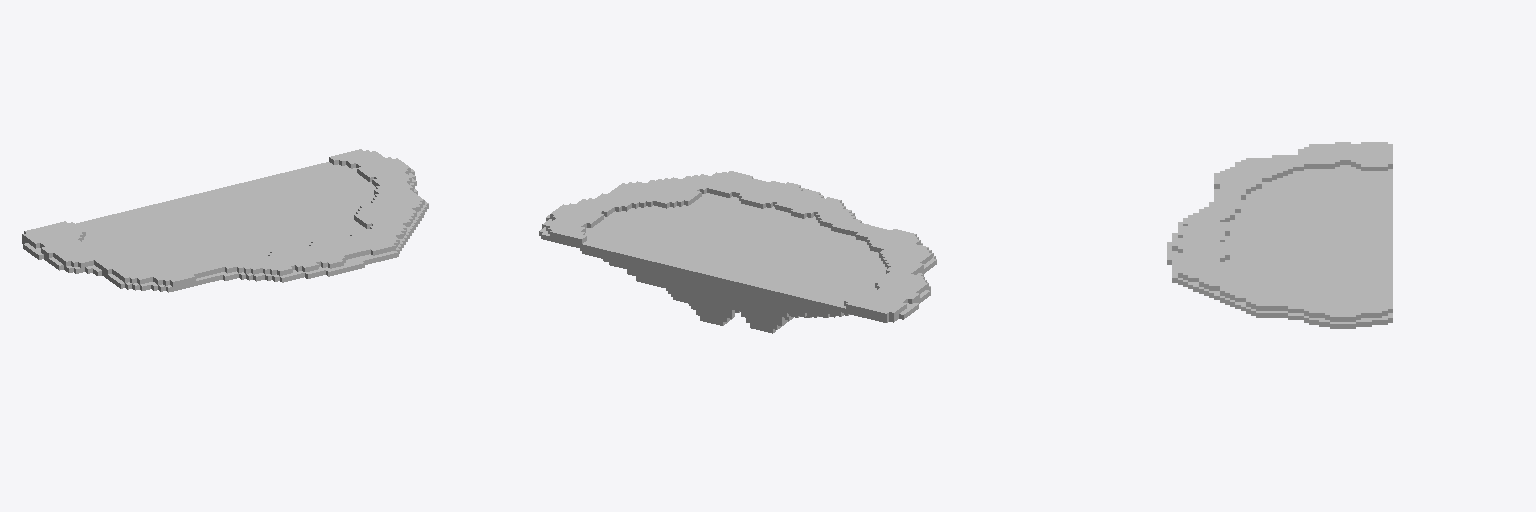
The model's file is FanCoralMedium1.obj.
The picture shows the model from 3 angles: view 1: azimuth 30°, elevation 25°; view 2: azimuth 150°, elevation 25°; view 3: azimuth 270°, elevation 25°; orthographic projection.
Visible parts, largest first — view 1: object 1; view 2: object 1; view 3: object 1.
Part boxes in pixels (x1,y1,x2,y2): object 1: (22,149,428,292); object 1: (539,171,936,333); object 1: (1167,142,1392,328).
Bounding box in the file's own units: 8.1 × 1.1 × 4.3.